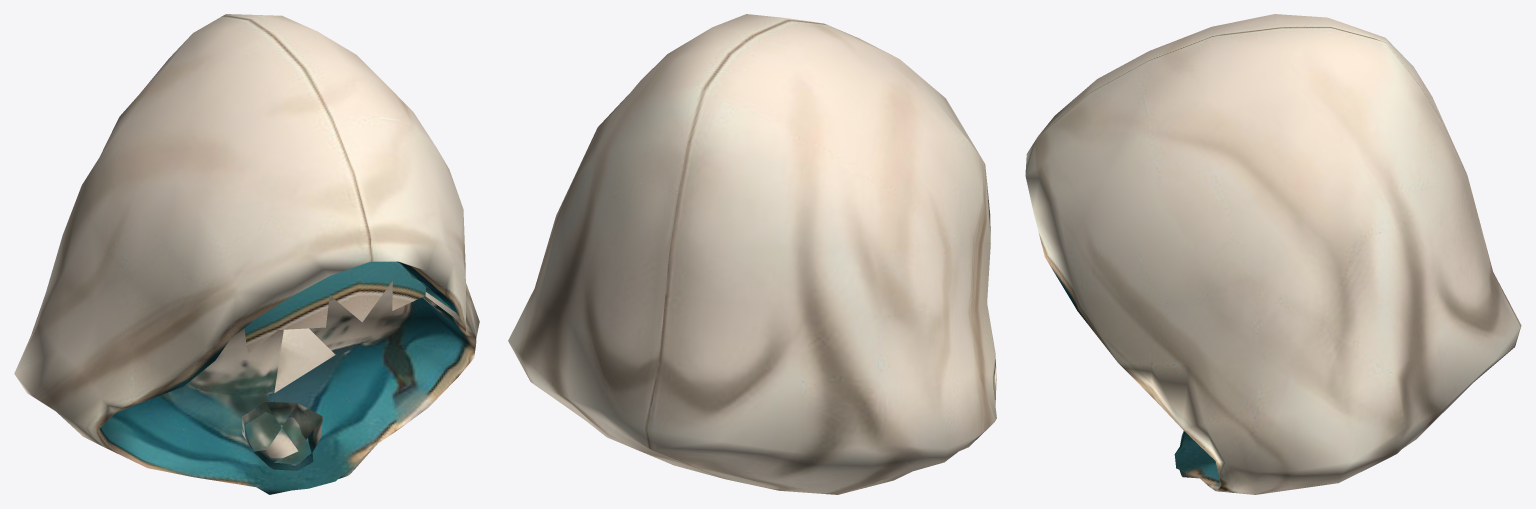
Rendered from wisp_hood.glb.
3 views of the same model, side by side, from view 1: azimuth 30°, elevation 25°; view 2: azimuth 150°, elevation 25°; view 3: azimuth 270°, elevation 25° (orthographic). The views are drawn at different scales.
Visible parts, largest first — view 1: Mesh_0; view 2: Mesh_0; view 3: Mesh_0.
Boxes of the visible parts, <box> form: Mesh_0: <box>14,14,479,494</box>; Mesh_0: <box>508,14,996,494</box>; Mesh_0: <box>1025,14,1521,494</box>.
Size of the model in its own units: 0.3577 by 0.3295 by 0.3399.
1 material, 1 textured.
